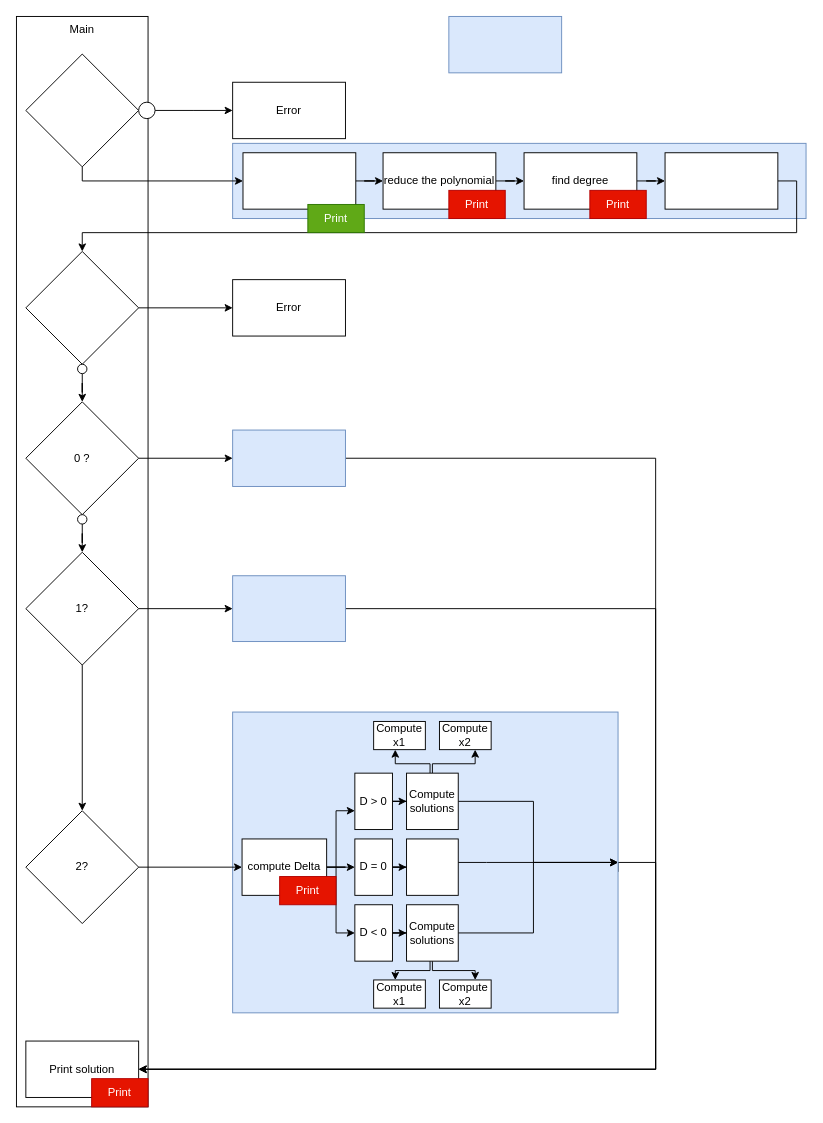
Some shapes in this 823 by 1123 pixel diagram are drawn without their labels. The shapes that lost their labels are listed below. From the top down, each one's centre as x and y in pixels, then its label:
the point at 505,44: Use cases
the point at 82,110: valid arg nb ?
the point at 299,180: Parse the arg to struct
the point at 721,180: add default terms
the point at 82,307: degree > 2 ?
the point at 288,457: Compute solution for degree 0 (all reals or none)
the point at 288,608: Compute solution for degree 1 (one real, just move the values to the other side)
the point at 432,866: Compute solution
